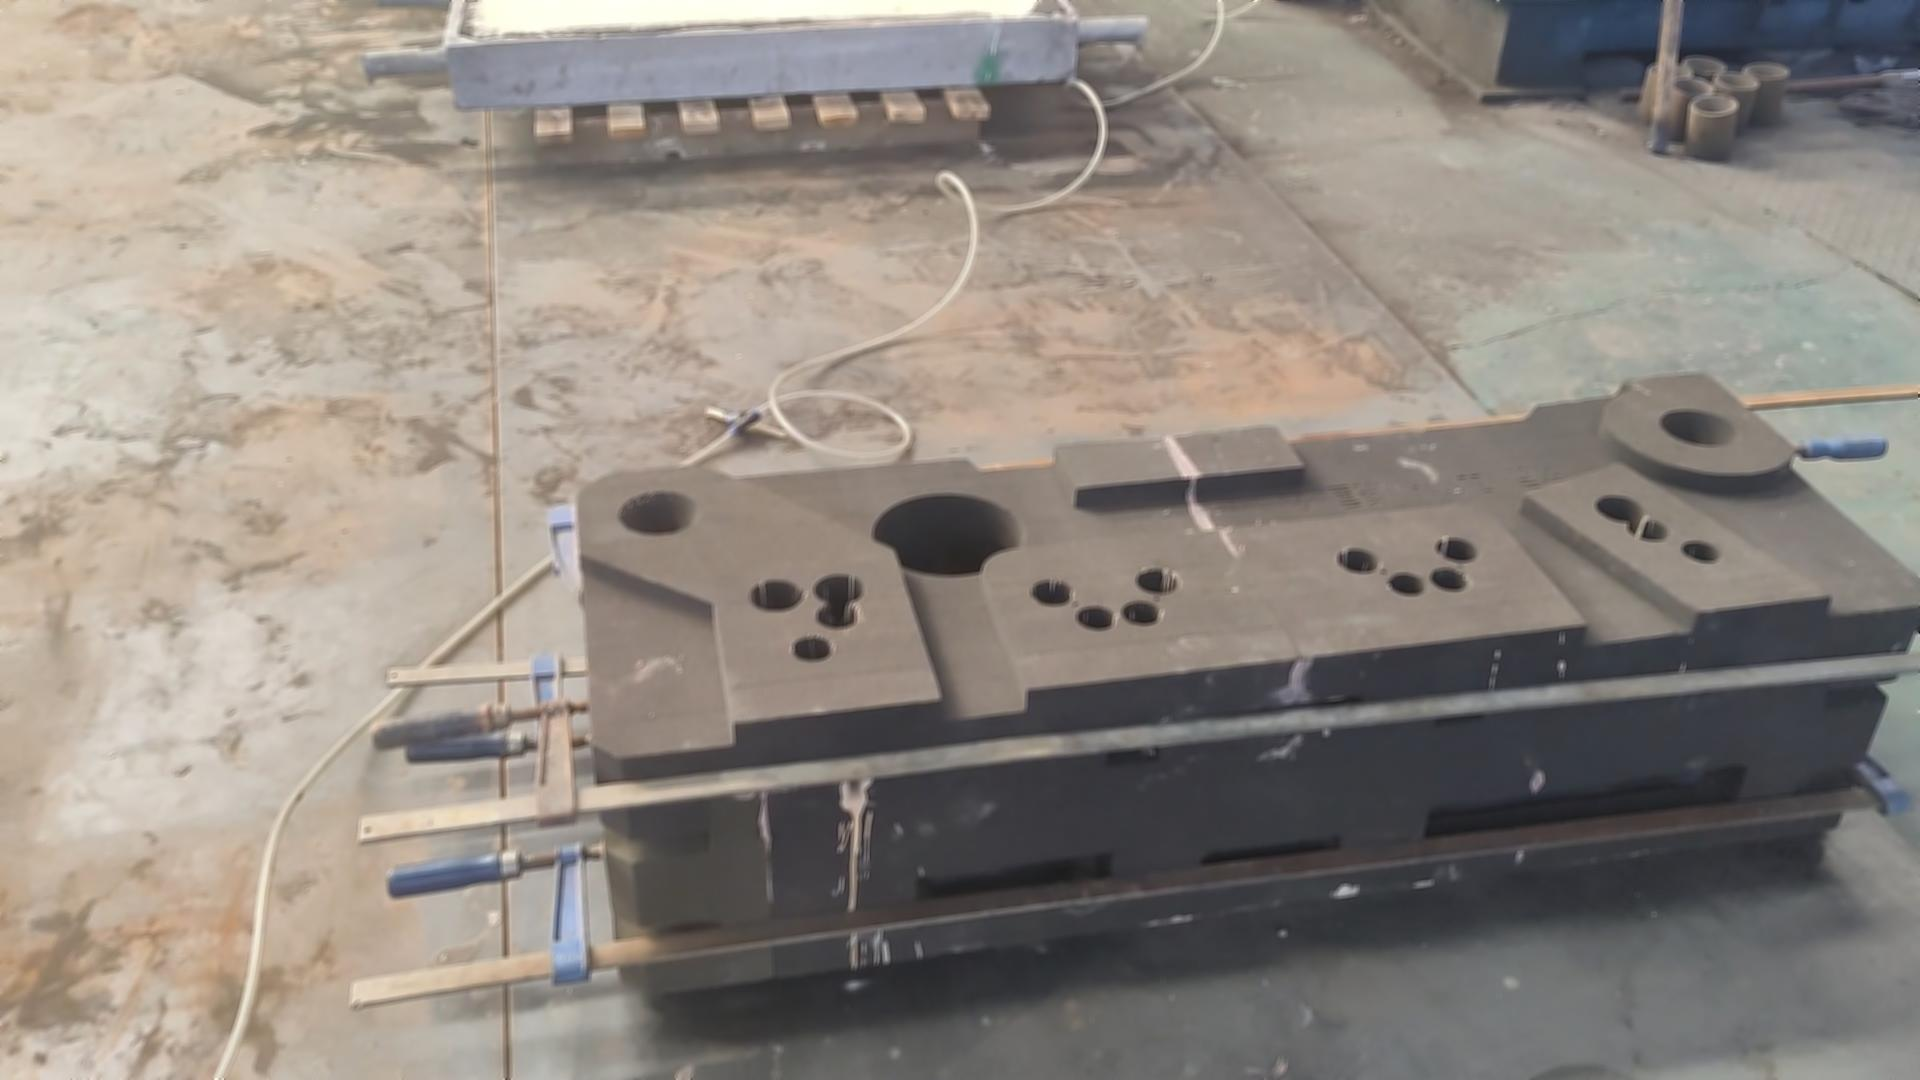pouring hole: (617, 492, 695, 534), (1659, 409, 1735, 446), (1692, 96, 1737, 113), (1746, 62, 1791, 78), (1716, 73, 1758, 88), (1675, 78, 1713, 95), (1687, 55, 1725, 71), (1650, 62, 1691, 76)
